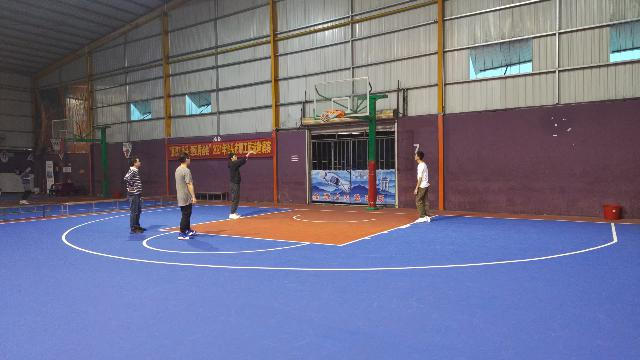ball: (79, 168, 85, 176)
basket: (324, 109, 344, 123), (49, 138, 63, 150)
goal: (320, 112, 330, 122)
